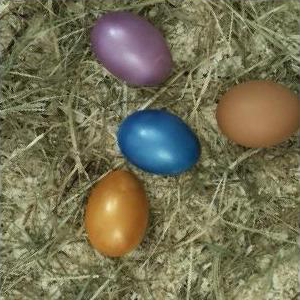egg: (90, 12, 173, 88), (217, 80, 300, 149), (86, 170, 149, 257), (119, 111, 202, 176)
